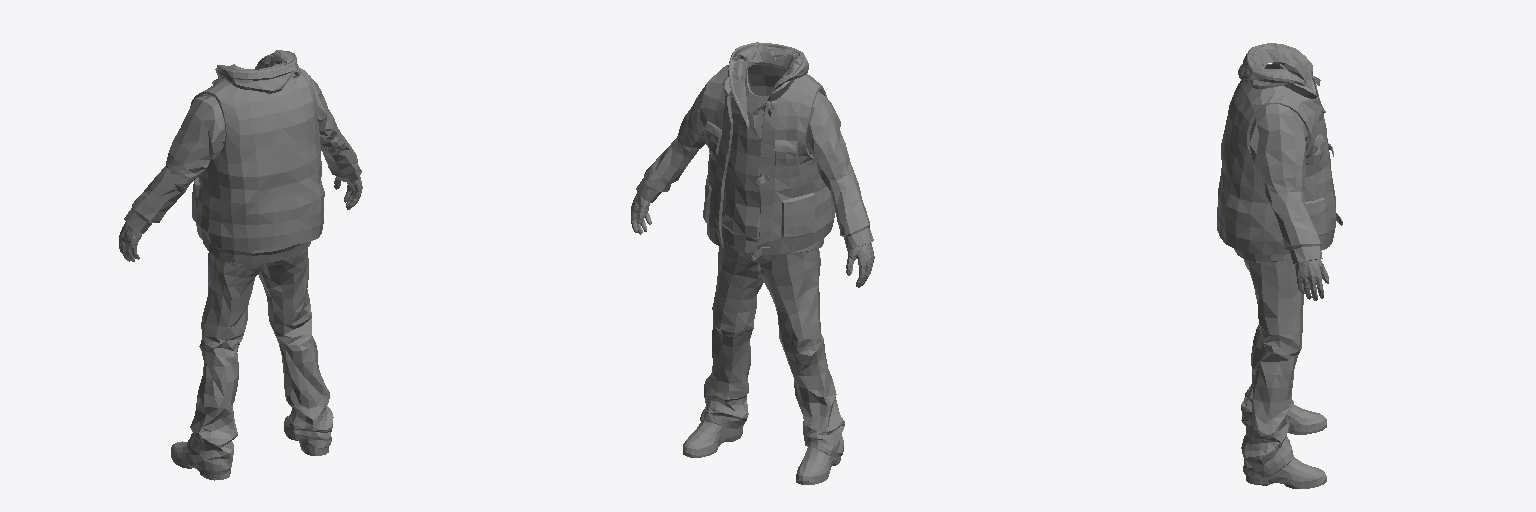
The model's file is man.obj.
3 renders of one model, left to right at view 1: azimuth 30°, elevation 25°; view 2: azimuth 150°, elevation 25°; view 3: azimuth 270°, elevation 25°, orthographic.
Visible parts, largest first — view 1: muro_muro_main; view 2: muro_muro_main; view 3: muro_muro_main.
Part boxes in pixels (bbox=[...]): muro_muro_main: bbox=[119, 50, 362, 480]; muro_muro_main: bbox=[631, 42, 874, 484]; muro_muro_main: bbox=[1217, 43, 1342, 488].
Size of the model in its own units: 1.27 by 2.03 by 0.5799.